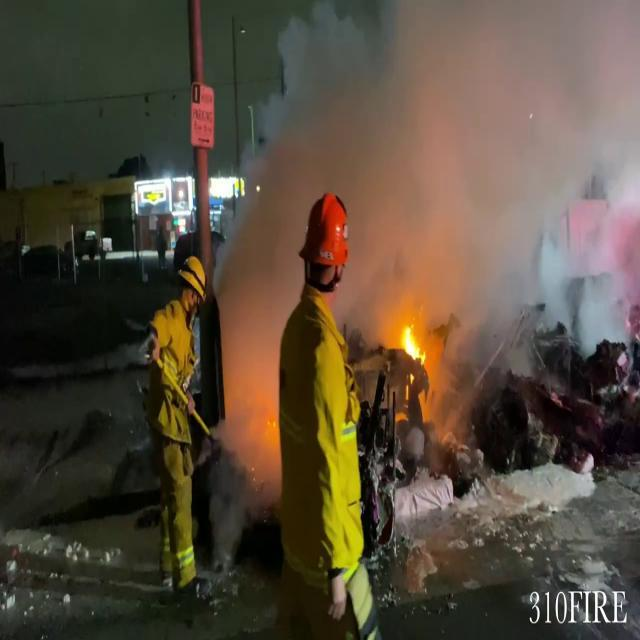Fire: (396, 314, 436, 394)
Smoke: (227, 0, 640, 321)
